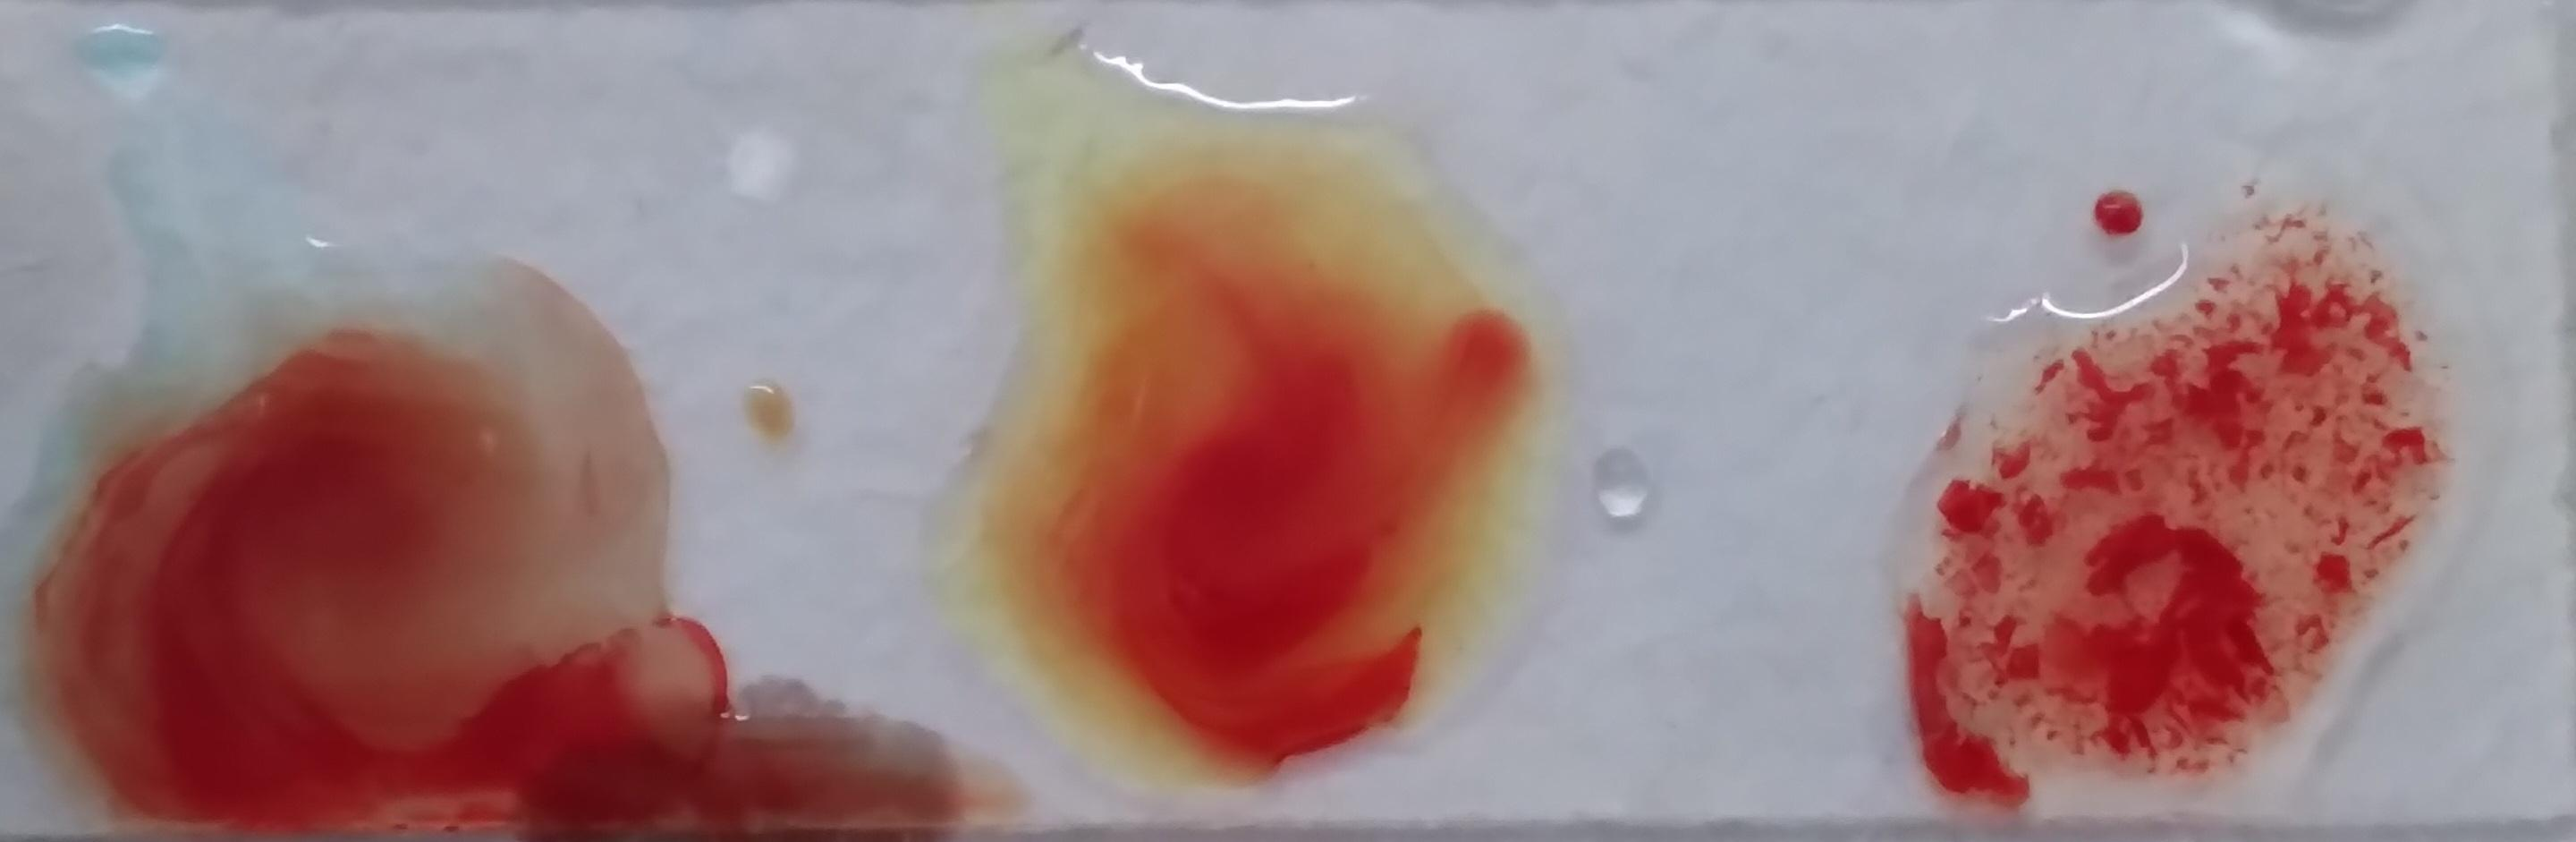D: (174, 21, 652, 664)
